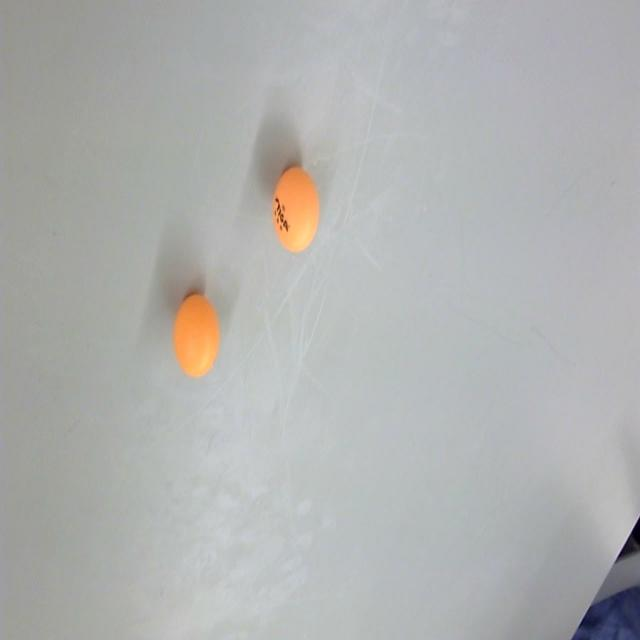ball: (174, 288, 224, 384), (272, 164, 324, 255)
